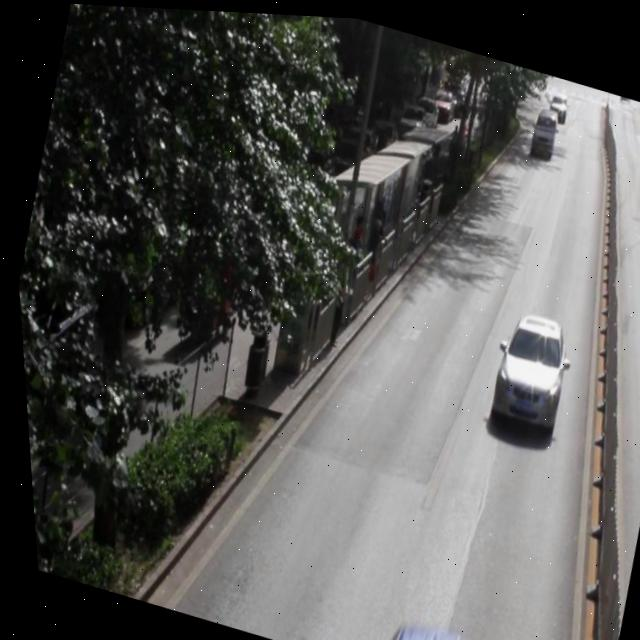car: (477, 299, 573, 433), (365, 609, 474, 640)
